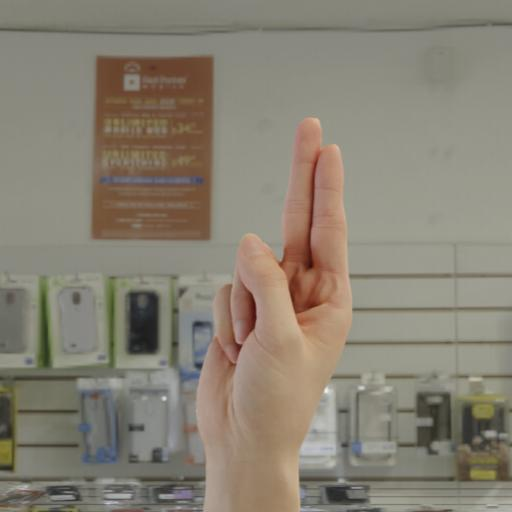U: (190, 108, 363, 462)
